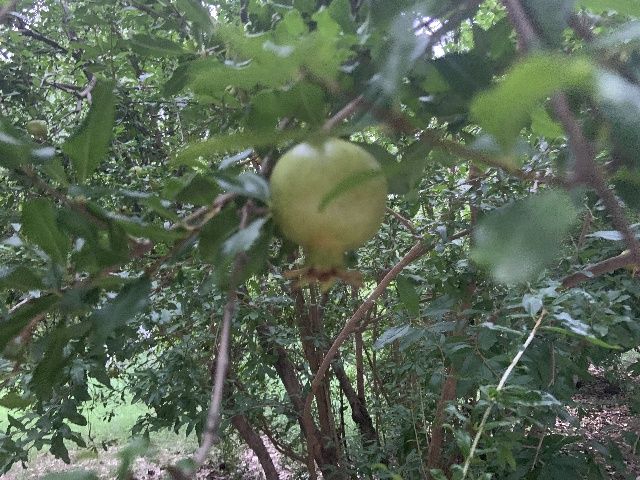mid-growth: (267, 138, 386, 293), (26, 120, 47, 139)
